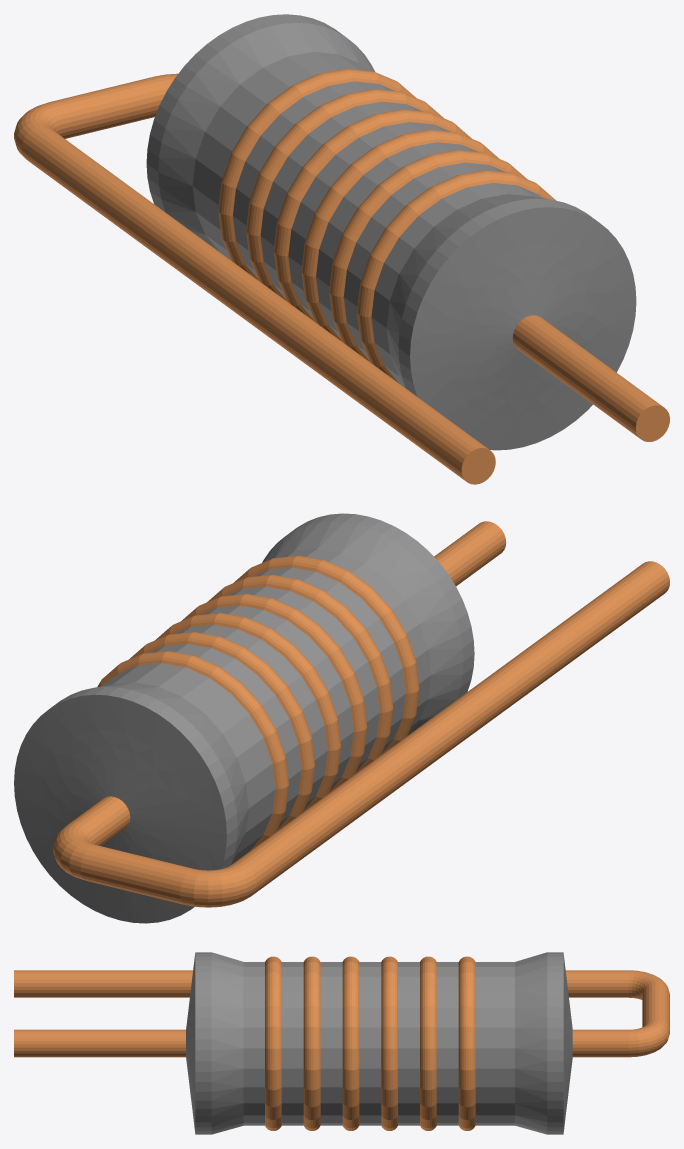
Rendered from L_Axial_L7.0mm_D3.3mm_P2.54mm_Vertical_Fastron_MICC.glb.
3 views of the same model, one above another, from view 1: azimuth 30°, elevation 25°; view 2: azimuth 150°, elevation 25°; view 3: azimuth 270°, elevation 25° (orthographic). The views are drawn at different scales.
Visible parts, largest first — view 1: Shape_IndexedFaceSet.002, Shape_IndexedFaceSet.025, Shape_IndexedFaceSet.018, Shape_IndexedFaceSet.017, Shape_IndexedFaceSet.001, Shape_IndexedFaceSet.006, Shape_IndexedFaceSet.014, Shape_IndexedFaceSet.012, Shape_IndexedFaceSet.016, Shape_IndexedFaceSet.008, Shape_IndexedFaceSet.010, Shape_IndexedFaceSet.005 (+12 smaller); view 2: Shape_IndexedFaceSet.020, Shape_IndexedFaceSet.025, Shape_IndexedFaceSet.004, Shape_IndexedFaceSet.017, Shape_IndexedFaceSet.016, Shape_IndexedFaceSet.006, Shape_IndexedFaceSet.010, Shape_IndexedFaceSet.014, Shape_IndexedFaceSet.008, Shape_IndexedFaceSet.012, Shape_IndexedFaceSet.023, Shape_IndexedFaceSet.009 (+12 smaller); view 3: Shape_IndexedFaceSet.025, Shape_IndexedFaceSet.017, Shape_IndexedFaceSet.018, Shape_IndexedFaceSet.004, Shape_IndexedFaceSet.001, Shape_IndexedFaceSet.007, Shape_IndexedFaceSet.009, Shape_IndexedFaceSet.011, Shape_IndexedFaceSet.015, Shape_IndexedFaceSet.005, Shape_IndexedFaceSet.013, Shape_IndexedFaceSet.003 (+13 smaller).
Boxes of the visible parts, box(x1,y1,x2,y2) form: Shape_IndexedFaceSet.002: box(410, 207, 636, 450); Shape_IndexedFaceSet.025: box(22, 126, 489, 481); Shape_IndexedFaceSet.018: box(158, 22, 374, 254); Shape_IndexedFaceSet.017: box(192, 52, 369, 259); Shape_IndexedFaceSet.001: box(512, 315, 662, 438); Shape_IndexedFaceSet.006: box(357, 170, 555, 382); Shape_IndexedFaceSet.014: box(246, 89, 443, 300); Shape_IndexedFaceSet.012: box(274, 109, 471, 320); Shape_IndexedFaceSet.016: box(218, 69, 415, 280); Shape_IndexedFaceSet.008: box(329, 150, 526, 361); Shape_IndexedFaceSet.010: box(301, 129, 499, 341); Shape_IndexedFaceSet.005: box(371, 183, 543, 387); Shape_IndexedFaceSet.020: box(14, 694, 226, 923); Shape_IndexedFaceSet.025: box(231, 561, 669, 894); Shape_IndexedFaceSet.004: box(262, 521, 463, 735); Shape_IndexedFaceSet.017: box(101, 663, 275, 863); Shape_IndexedFaceSet.016: box(97, 651, 288, 861); Shape_IndexedFaceSet.006: box(233, 555, 419, 754); Shape_IndexedFaceSet.010: box(181, 594, 367, 792); Shape_IndexedFaceSet.014: box(129, 632, 314, 830); Shape_IndexedFaceSet.008: box(207, 574, 393, 773); Shape_IndexedFaceSet.012: box(155, 613, 340, 811); Shape_IndexedFaceSet.023: box(81, 844, 193, 904); Shape_IndexedFaceSet.009: box(227, 586, 379, 771); Shape_IndexedFaceSet.025: box(14, 970, 628, 997); Shape_IndexedFaceSet.017: box(475, 962, 514, 1125); Shape_IndexedFaceSet.018: box(515, 952, 547, 1134); Shape_IndexedFaceSet.004: box(211, 952, 243, 1134); Shape_IndexedFaceSet.001: box(14, 1029, 185, 1057); Shape_IndexedFaceSet.007: box(281, 962, 303, 1125); Shape_IndexedFaceSet.009: box(320, 962, 342, 1125); Shape_IndexedFaceSet.011: box(359, 962, 381, 1125); Shape_IndexedFaceSet.015: box(436, 962, 458, 1125); Shape_IndexedFaceSet.005: box(243, 962, 264, 1125); Shape_IndexedFaceSet.013: box(398, 962, 419, 1125); Shape_IndexedFaceSet.003: box(195, 952, 211, 1134).
Bounding box in the file's own units: 1.75 × 1.3 × 4.66.
